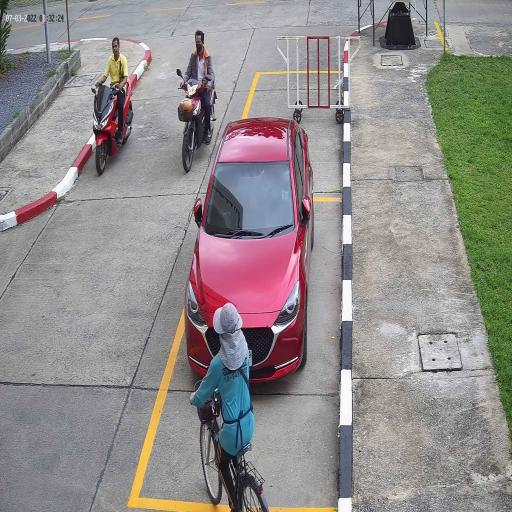car: (184, 116, 315, 382)
motorcycle: (92, 85, 134, 177), (178, 78, 218, 174)
